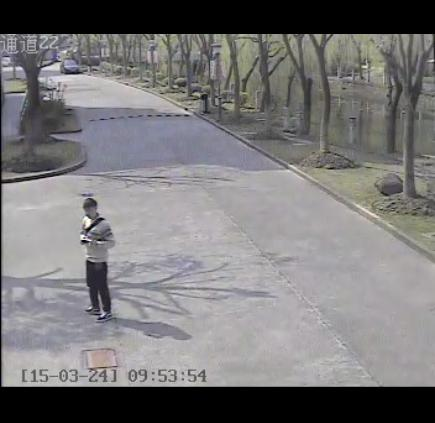person: (66, 190, 121, 320)
